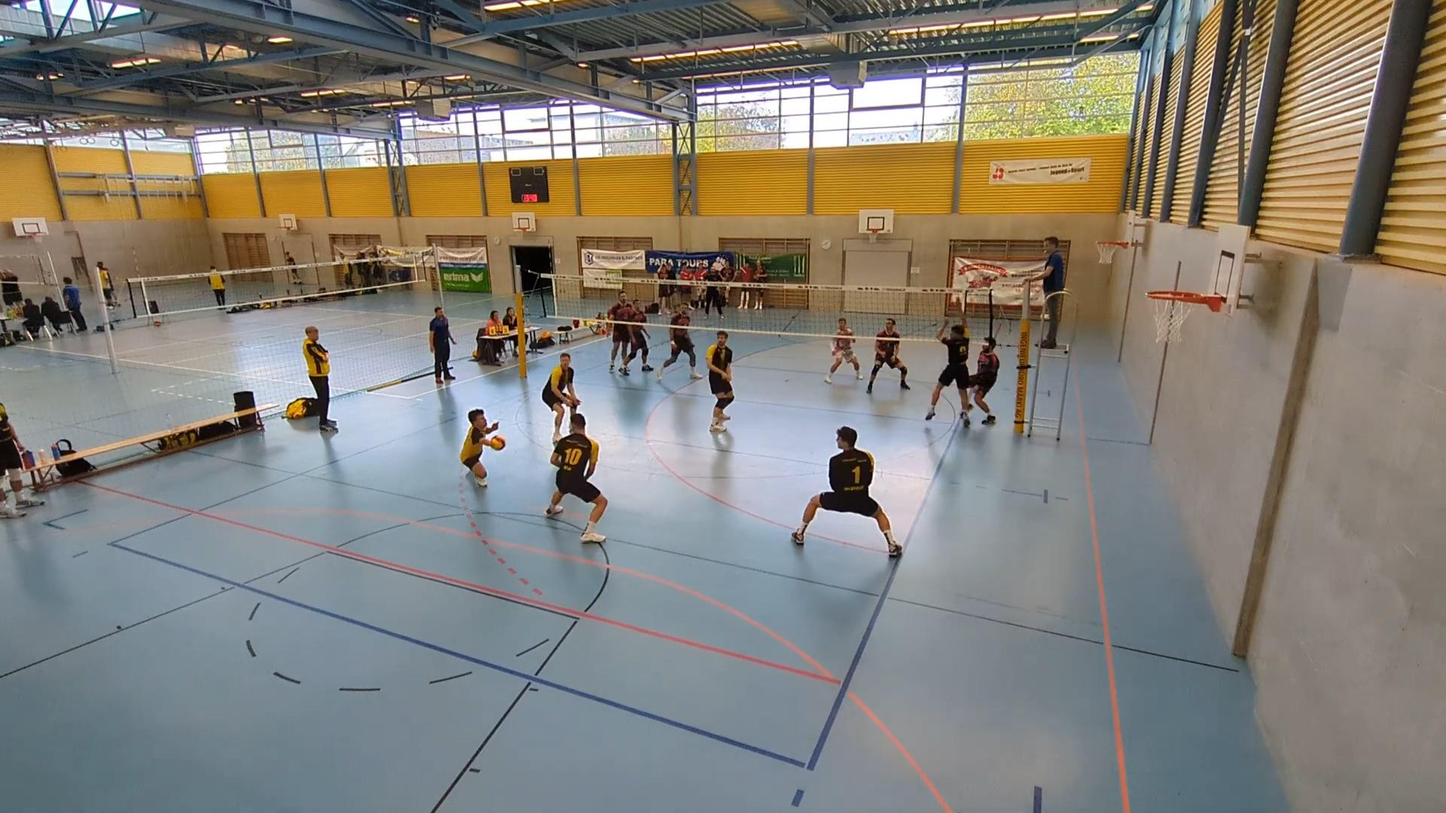Dig: (450, 404, 507, 491)
Player: (792, 426, 901, 556), (545, 412, 607, 542), (926, 324, 971, 425), (541, 352, 580, 443), (656, 303, 700, 380), (866, 318, 908, 393), (705, 331, 734, 431), (971, 336, 999, 424), (825, 318, 862, 383), (622, 307, 653, 373)
ball: (489, 434, 506, 448)
